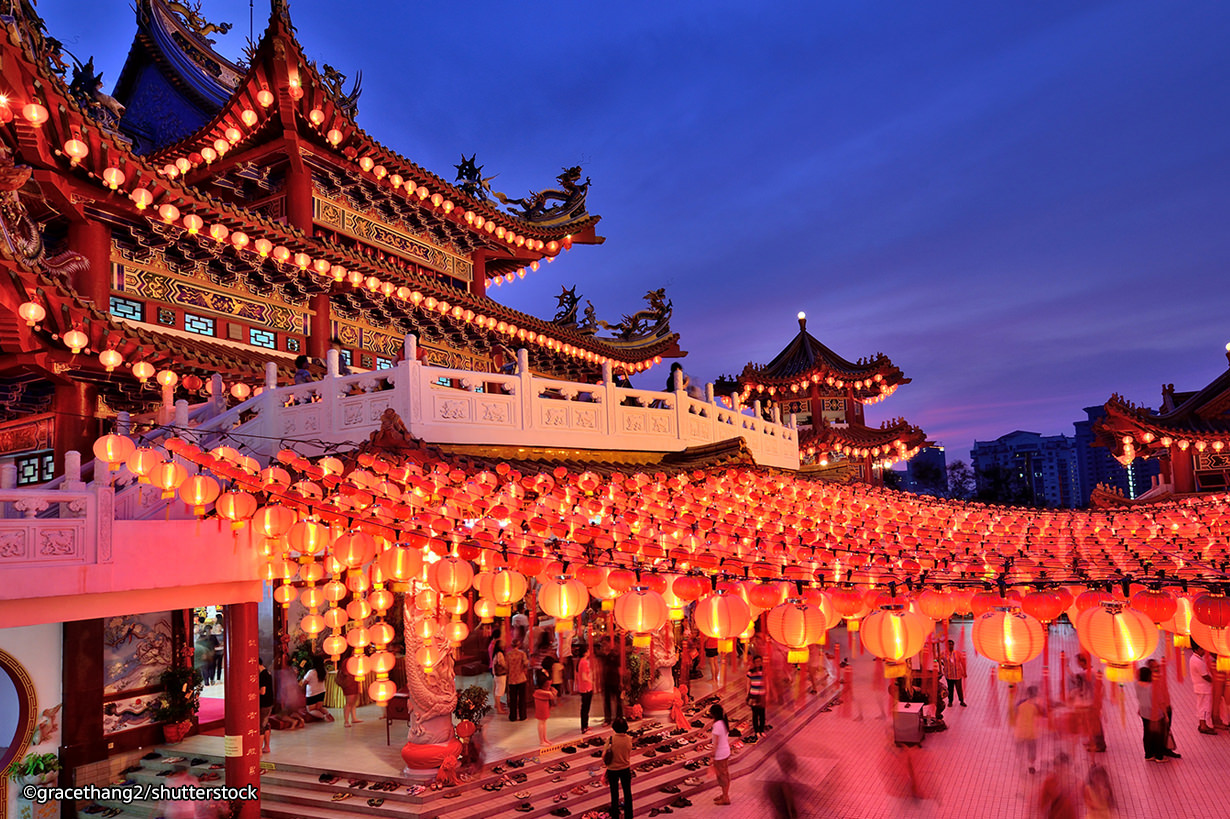Buddhist Temple: (12, 14, 891, 766)
